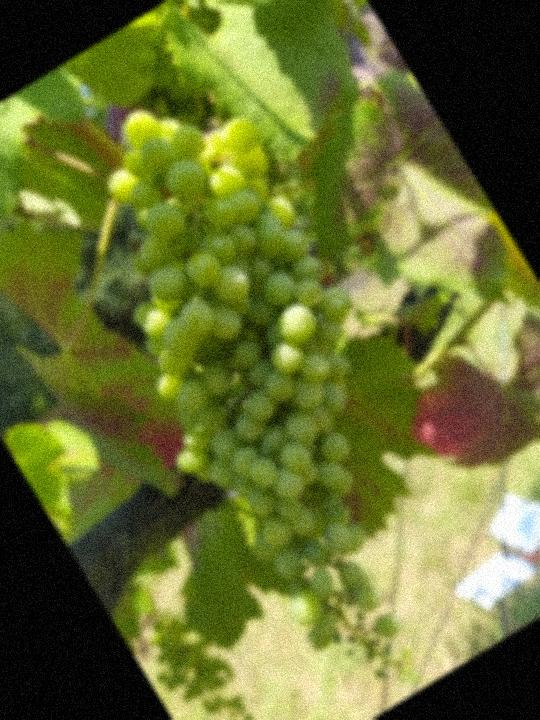grape: (4, 52, 540, 720)
